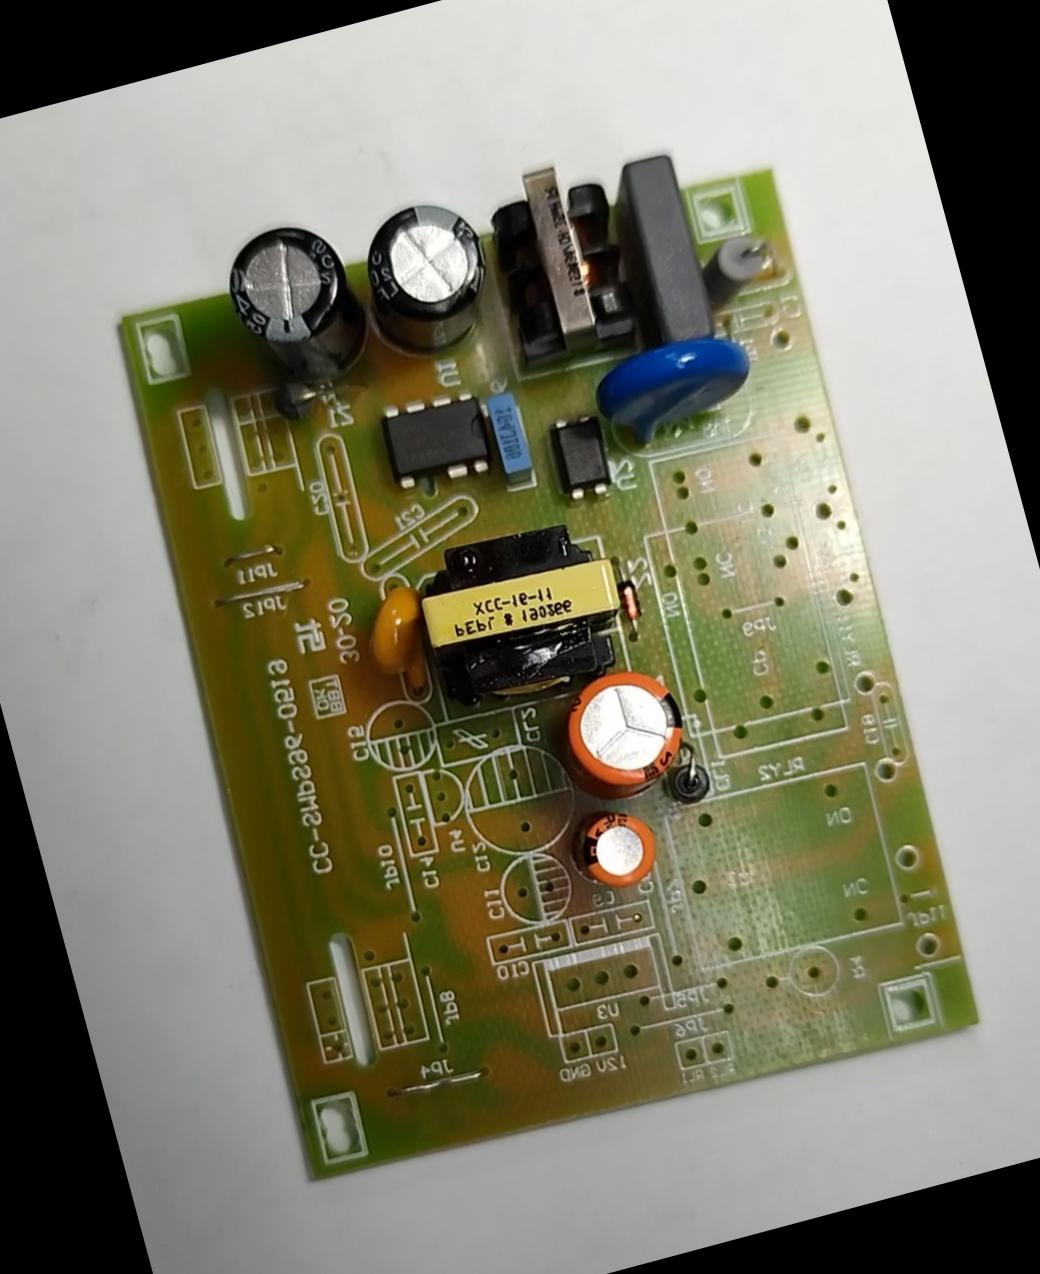Cap1: (550, 656, 698, 808)
Cap2: (571, 801, 665, 896)
Cap3: (346, 188, 510, 374)
Cap4: (213, 212, 379, 400)
MOSFET: (373, 382, 501, 498)
Mov: (583, 322, 765, 460)
Resistor: (694, 230, 778, 310)
Transformer: (403, 507, 638, 715), (471, 149, 650, 369)
